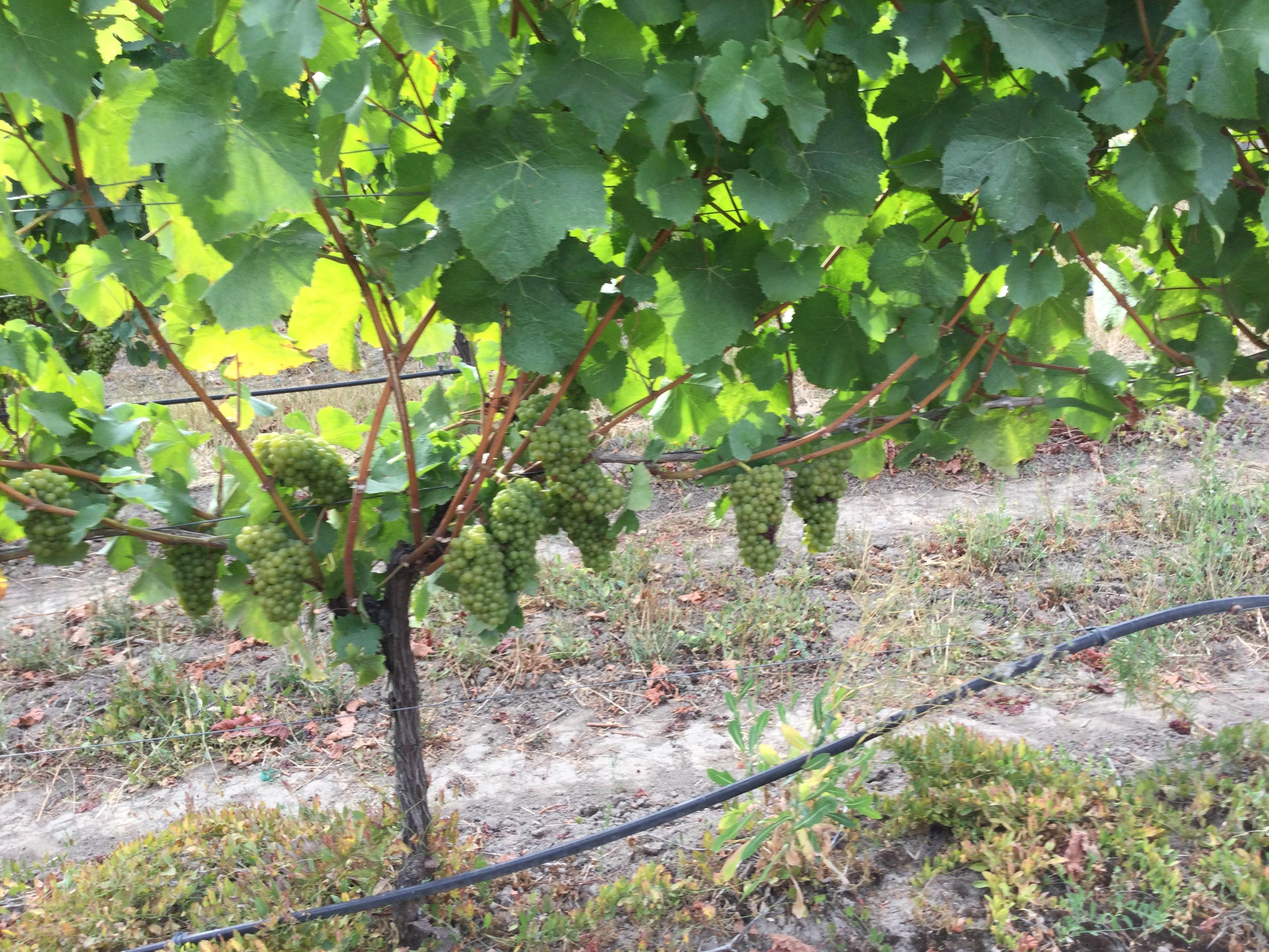leaf: (130, 58, 315, 241), (431, 108, 606, 280), (942, 95, 1094, 231), (531, 4, 644, 151), (656, 224, 762, 365), (204, 219, 323, 330), (1164, 0, 1268, 117), (0, 0, 102, 115), (77, 58, 156, 200), (975, 0, 1106, 79), (699, 39, 786, 141), (288, 259, 364, 371), (868, 224, 967, 306), (790, 291, 867, 389), (237, 0, 324, 86), (1114, 126, 1201, 211), (0, 180, 59, 301), (185, 325, 312, 379), (947, 408, 1050, 474), (731, 146, 809, 226), (390, 0, 505, 53), (822, 0, 898, 76), (634, 144, 703, 224), (1083, 58, 1159, 130), (636, 61, 698, 149), (892, 0, 963, 72), (687, 0, 771, 50), (755, 242, 822, 301), (783, 63, 828, 142), (1005, 255, 1063, 308), (617, 0, 682, 24), (227, 398, 236, 402), (243, 394, 246, 403), (939, 54, 940, 58), (741, 198, 743, 200), (799, 136, 801, 137), (561, 17, 562, 19), (958, 11, 958, 22)
